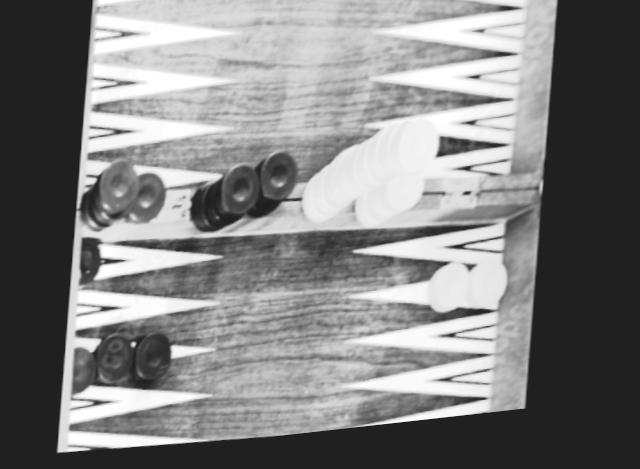bar: (425, 178, 526, 227), (162, 184, 195, 238)
board: (64, 0, 546, 462)
dark_p: (215, 159, 265, 223), (127, 169, 172, 231), (99, 160, 143, 218), (96, 332, 138, 390), (133, 332, 178, 386), (260, 154, 301, 209), (74, 341, 101, 401), (80, 239, 105, 293)
light_p: (394, 124, 443, 184), (429, 270, 476, 325), (469, 267, 516, 321), (386, 178, 425, 221)
